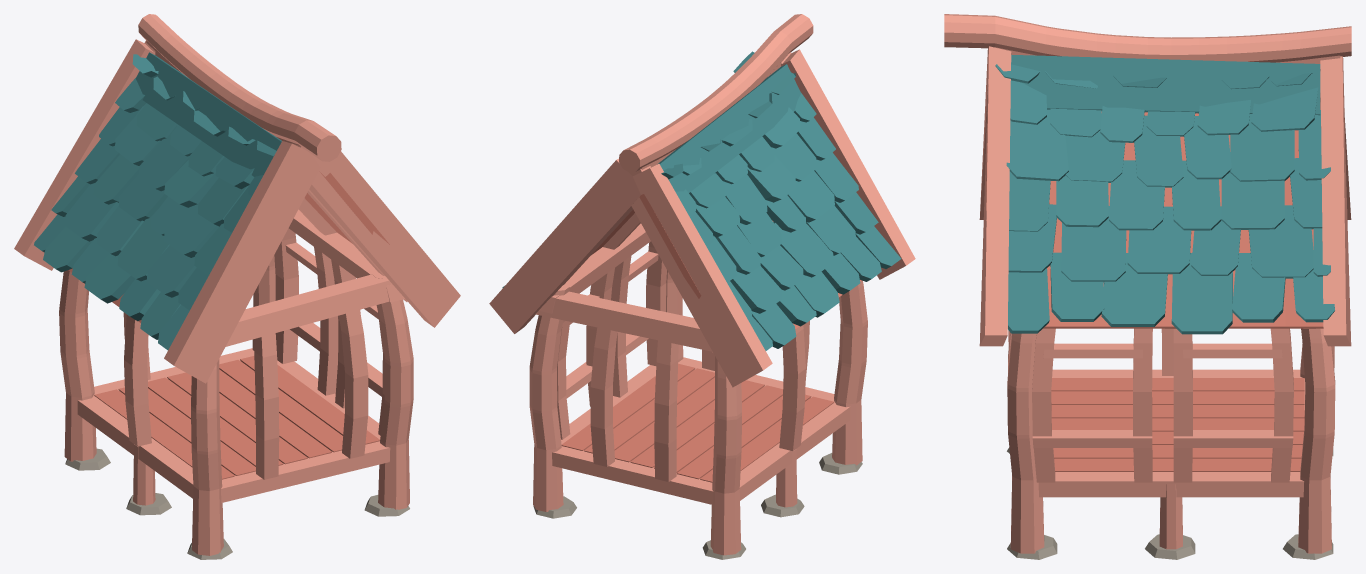
Rendered from goat-shelter-roof.glb.
The picture shows the model from 3 angles, left to right: view 1: azimuth 30°, elevation 25°; view 2: azimuth 150°, elevation 25°; view 3: azimuth 270°, elevation 25°; orthographic projection. The views are drawn at different scales.
Visible parts, largest first — view 1: roof_shingles, timber_frame, roof_timbers, stilts_sills, floor, stone_pads, roof_deck; view 2: roof_shingles, timber_frame, roof_timbers, stilts_sills, floor, stone_pads, roof_deck; view 3: roof_shingles, roof_timbers, timber_frame, floor, stilts_sills, roof_deck, stone_pads.
Part boxes in pixels (x1=…): roof_shingles: x1=34, y1=52, x2=281, y2=350; timber_frame: x1=59, y1=189, x2=413, y2=490; roof_timbers: x1=14, y1=14, x2=460, y2=383; stilts_sills: x1=64, y1=347, x2=409, y2=555; floor: x1=94, y1=356, x2=379, y2=479; stone_pads: x1=65, y1=448, x2=409, y2=559; roof_deck: x1=68, y1=171, x2=389, y2=322; roof_shingles: x1=502, y1=51, x2=901, y2=350; timber_frame: x1=529, y1=209, x2=867, y2=493; roof_timbers: x1=489, y1=14, x2=915, y2=387; stilts_sills: x1=533, y1=356, x2=862, y2=555; floor: x1=561, y1=363, x2=834, y2=482; stone_pads: x1=533, y1=453, x2=862, y2=559; roof_deck: x1=592, y1=194, x2=861, y2=328; roof_shingles: x1=995, y1=54, x2=1334, y2=334; roof_timbers: x1=944, y1=14, x2=1351, y2=346; timber_frame: x1=1007, y1=328, x2=1335, y2=482; floor: x1=1051, y1=378, x2=1304, y2=471; stilts_sills: x1=1010, y1=369, x2=1331, y2=553; roof_deck: x1=986, y1=93, x2=1344, y2=328; stone_pads: x1=1007, y1=447, x2=1333, y2=559.
Size of the model in its own units: 3.37 by 4.76 by 3.66.
